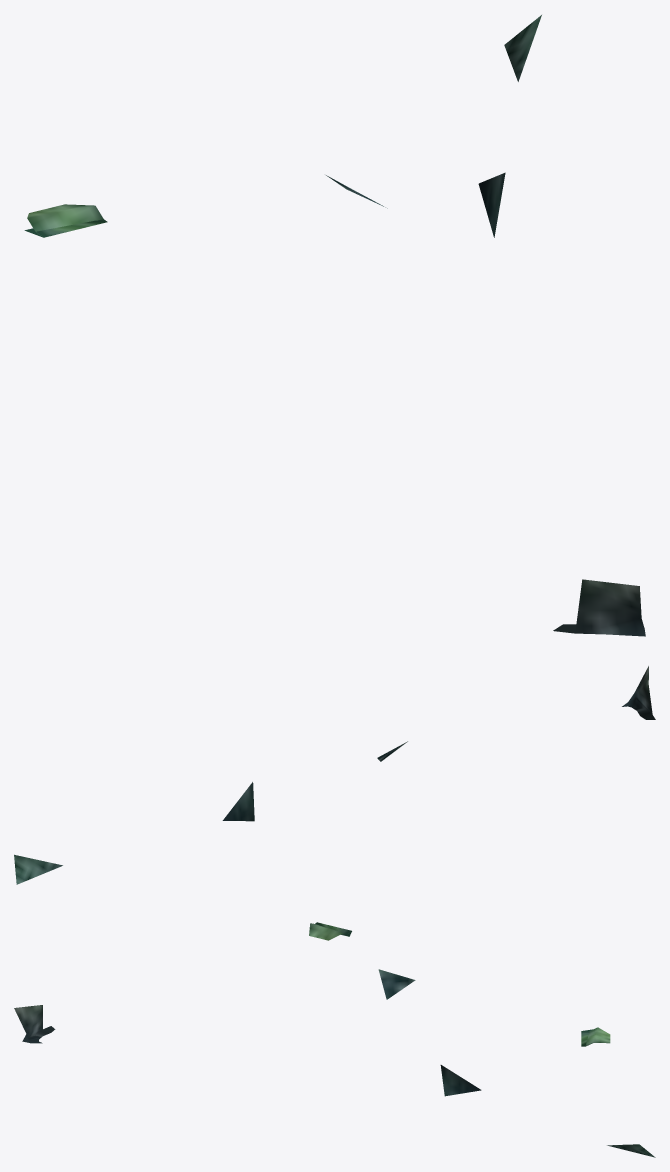
3 views of the same model, one above another, from view 1: azimuth 30°, elevation 25°; view 2: azimuth 150°, elevation 25°; view 3: azimuth 270°, elevation 25° (orthographic). The views are drawn at different scales.
Parts seen in each view (by area): view 1: 30436272704361517534_1; view 2: 30436272704361517534_1; view 3: 30436272704361517534_1.
Part boxes in pixels (left/top/right/bottom): 30436272704361517534_1: left=24, top=15, right=645, bottom=636; 30436272704361517534_1: left=14, top=666, right=655, bottom=940; 30436272704361517534_1: left=14, top=969, right=655, bottom=1157.
Size of the model in its own units: 12.42 by 3.54 by 23.91.
Materials: 1 (1 with a texture image).
